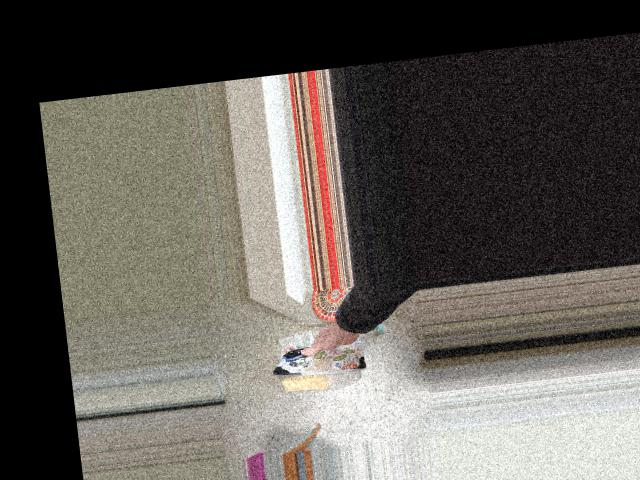cheese: (264, 317, 381, 420)
